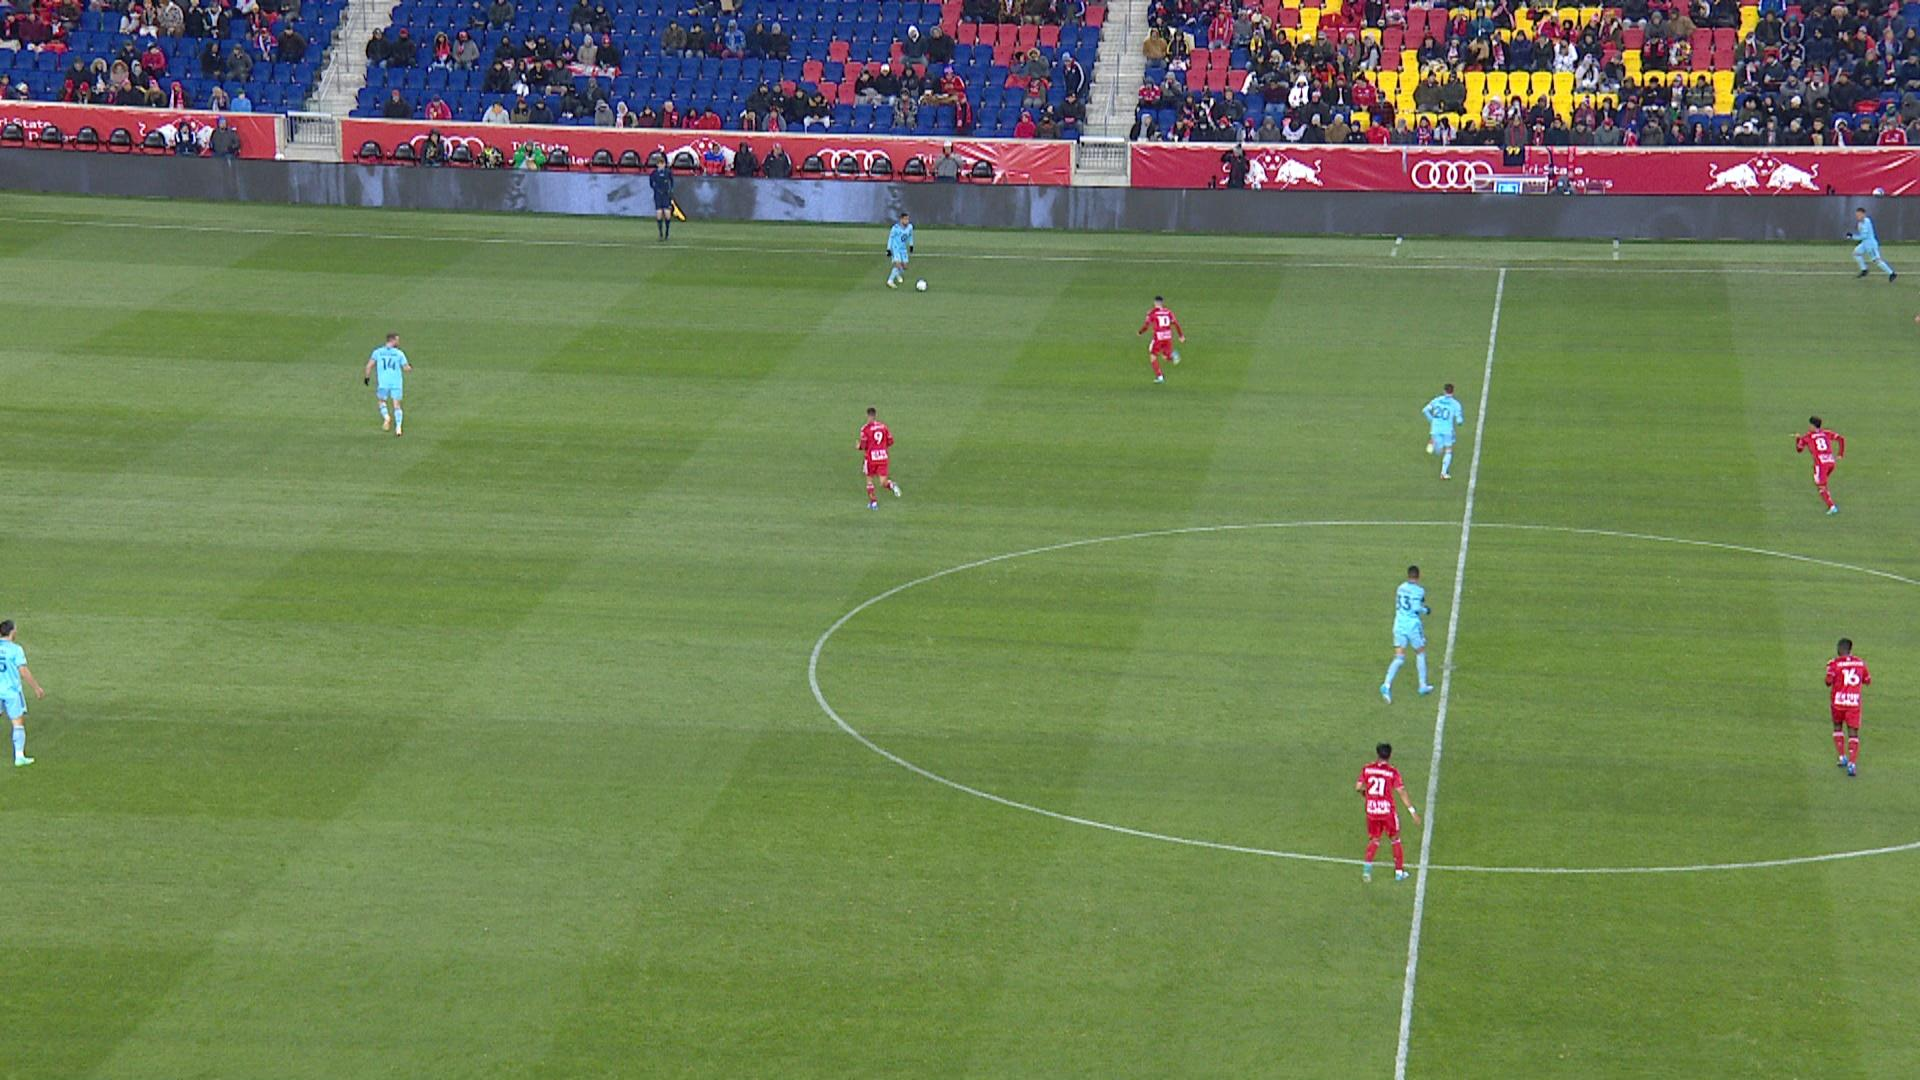football: (915, 278, 929, 292)
